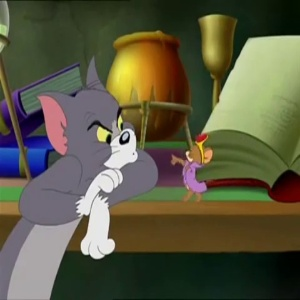Jerry: (181, 137, 216, 163)
Tom: (30, 71, 145, 169)
